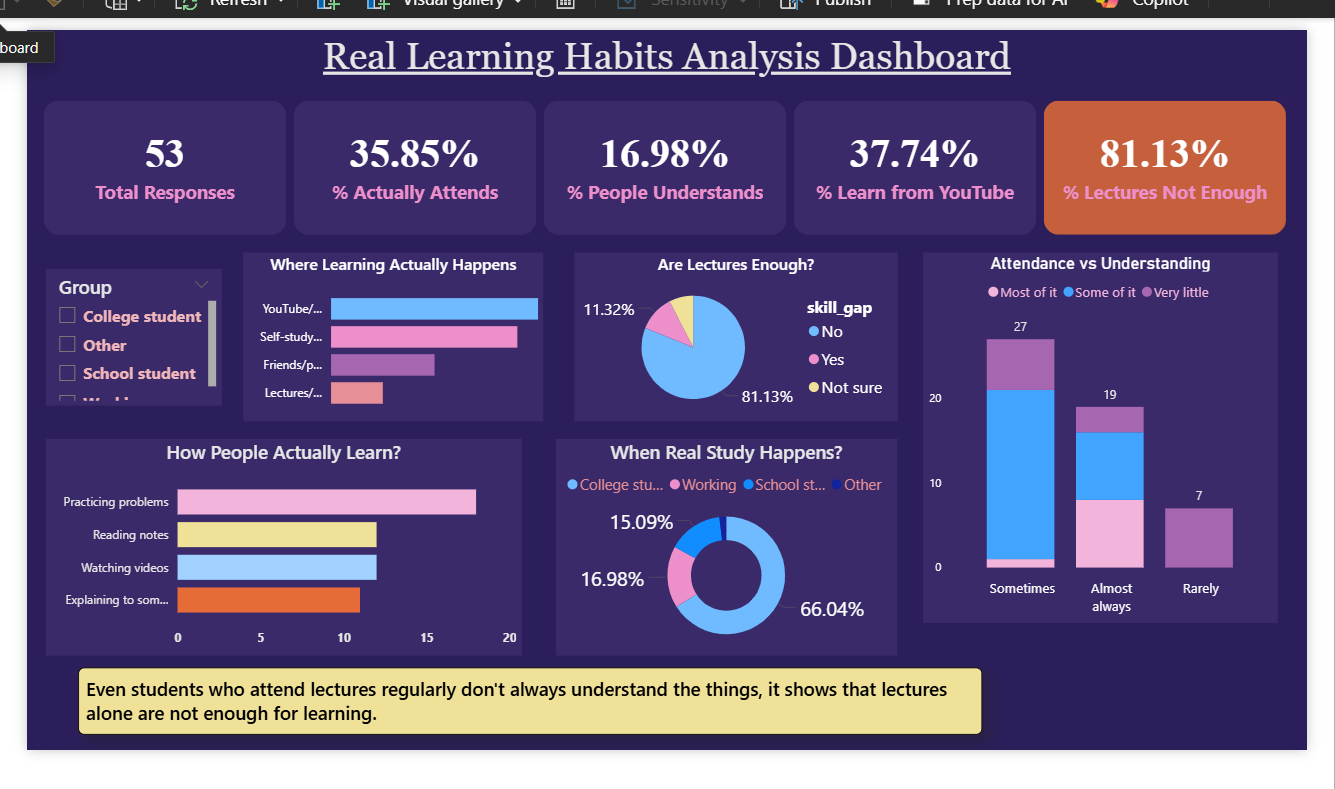

The page's visual inventory and layout, read from the dashboard file:
{"tool":"powerbi","page":{"name":"Page 1","canvas":[1280,720],"ordinal":0},"visuals":[{"type":"cardVisual","fields":{"Data":["survey_responses.Total Responses","survey_responses.% Actually Attends","survey_responses.% People Understands","survey_responses.% Learn from YouTube","survey_responses.% Lectures Not Enough"]},"box":[0,54,1280,168],"z":0},{"type":"textbox","box":[0,0,1280,70],"z":1000},{"type":"clusteredBarChart","title":"Where Learning Actually Happens","fields":{"Category":["survey_responses.learning_source"],"Y":["CountNonNull(survey_responses.group)"]},"box":[215.7,222.9,300,168.6],"z":2000},{"type":"pieChart","title":"Are Lectures Enough?","fields":{"Category":["survey_responses.skill_gap"],"Y":["CountNonNull(survey_responses.group)"]},"box":[547.1,222.9,322.9,168.6],"z":3000},{"type":"columnChart","title":"Attendance vs Understanding","fields":{"Category":["survey_responses.attendance_frequency"],"Series":["survey_responses.understanding_level"],"Y":["survey_responses.Total Responses"]},"box":[895.7,222.9,354.3,370],"z":4000},{"type":"slicer","fields":{"Values":["survey_responses.group"]},"box":[18.6,238.6,175.7,137.1],"z":5000},{"type":"clusteredBarChart","title":"How People Actually Learn?","fields":{"Category":["survey_responses.learning_method"],"Y":["CountNonNull(survey_responses.group)"]},"box":[18.6,408.6,475.7,217.1],"z":6000},{"type":"donutChart","title":"When Real Study Happens?","fields":{"Category":["survey_responses.group"],"Y":["CountNonNull(survey_responses.real_study_time)"]},"box":[528.6,408.6,341.4,217.1],"z":7000},{"type":"textbox","box":[51.4,637.1,904.3,67.1],"z":8000}]}

Visuals, with their boxes on the page's 1280x720 design canvas (x1, y1, x2, y2). These are canvas units, not pixel positions in the 1335x789 screenshot, which may show the page scaled, cropped or inside an application window:
cardVisual - survey_responses.Total Responses x survey_responses.% Actually Attends: x1=0, y1=54, x2=1280, y2=222
textbox: x1=0, y1=0, x2=1280, y2=70
"Where Learning Actually Happens" clusteredBarChart: x1=216, y1=223, x2=516, y2=392
"Are Lectures Enough?" pieChart: x1=547, y1=223, x2=870, y2=392
"Attendance vs Understanding" columnChart: x1=896, y1=223, x2=1250, y2=593
slicer - survey_responses.group: x1=19, y1=239, x2=194, y2=376
"How People Actually Learn?" clusteredBarChart: x1=19, y1=409, x2=494, y2=626
"When Real Study Happens?" donutChart: x1=529, y1=409, x2=870, y2=626
textbox: x1=51, y1=637, x2=956, y2=704
